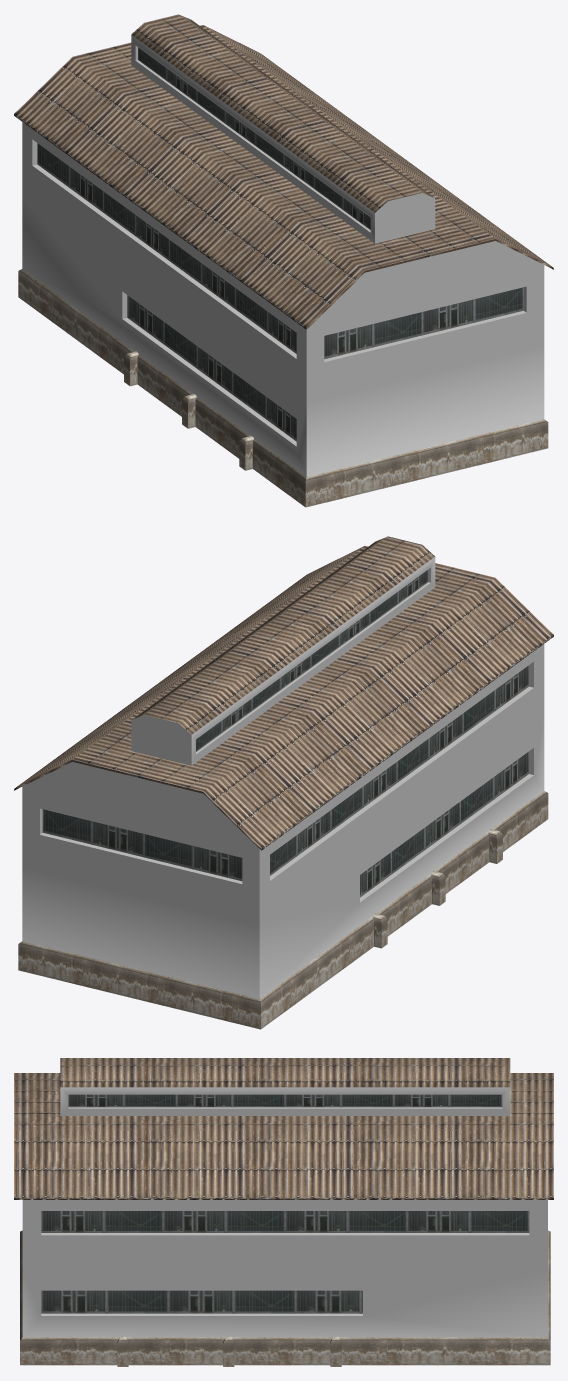
Rendered from hall01_lod2.fbx.
The picture shows the model from 3 angles, top to bottom: view 1: azimuth 30°, elevation 25°; view 2: azimuth 150°, elevation 25°; view 3: azimuth 270°, elevation 25°; orthographic projection. The views are drawn at different scales.
Parts seen in each view (by area): view 1: Mesh Object; view 2: Mesh Object; view 3: Mesh Object.
Boxes of the visible parts, box(x1,y1,x2,y2) form: Mesh Object: box(14, 14, 553, 507); Mesh Object: box(14, 536, 553, 1029); Mesh Object: box(14, 1058, 553, 1366).
Size of the model in its own units: 13.13 by 13.1 by 26.19.
